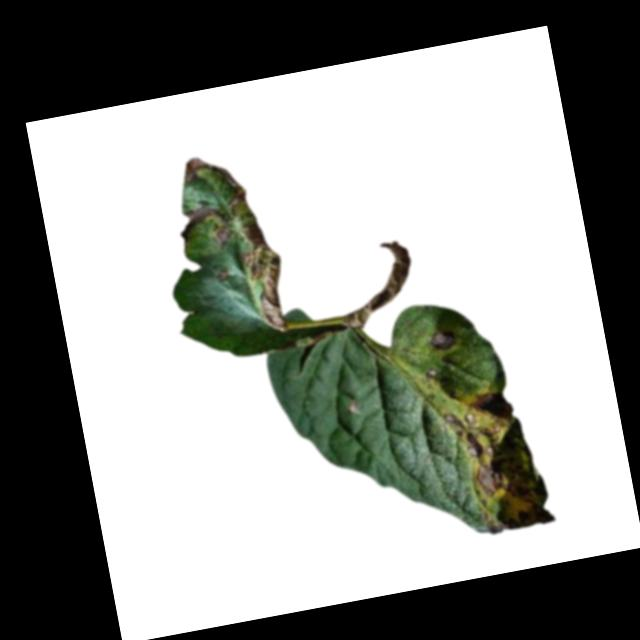Early_blight: (437, 385, 555, 541), (224, 179, 295, 337), (328, 236, 435, 331), (181, 202, 234, 252), (179, 154, 216, 186), (429, 328, 458, 353), (218, 268, 231, 282)
